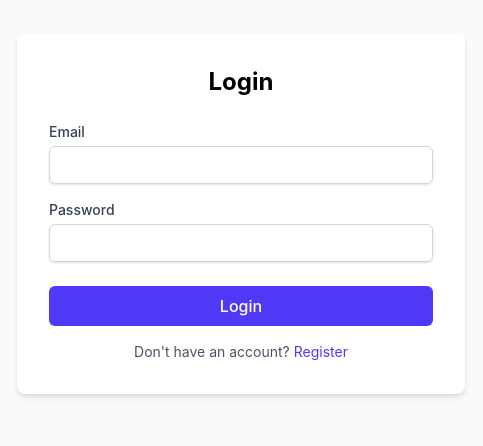
LoginPage › displays an error message on failed login
Type "wrong@example.com" into the field labelled "Email" at (241, 165), box [49, 146, 433, 184]
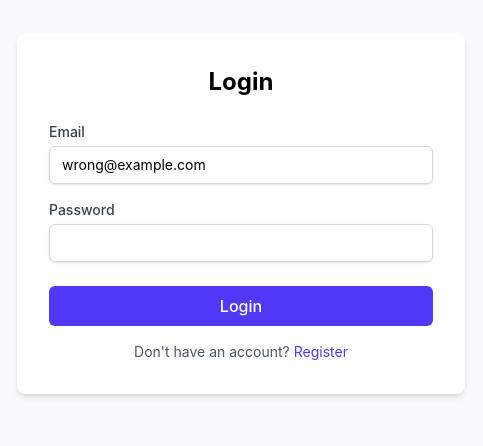
Type "wrongpassword" into the password field labelled "Password" at (241, 243), box [49, 224, 433, 262]
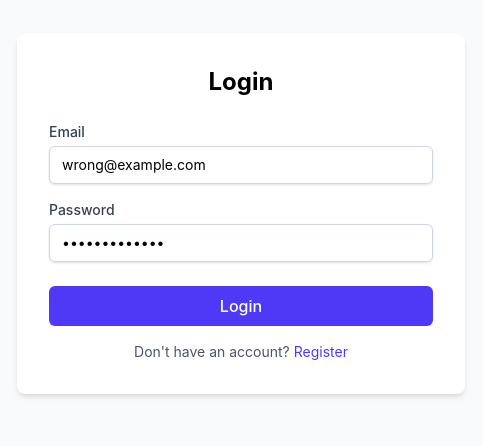
Click the button "Login" at (241, 306), box [49, 286, 433, 326]
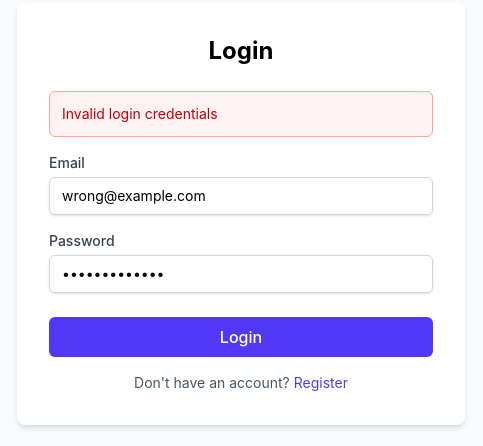
Expected: the text "Invalid login credentials" is shown, [49, 91, 433, 137]
